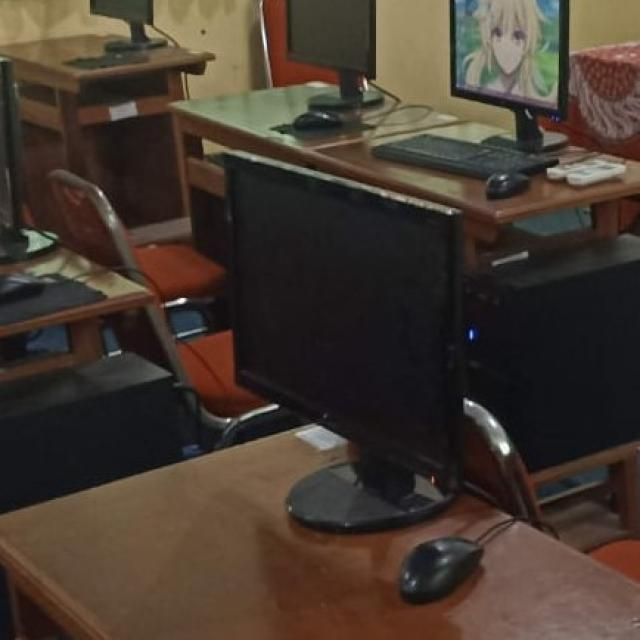offscreen: (228, 151, 461, 491)
